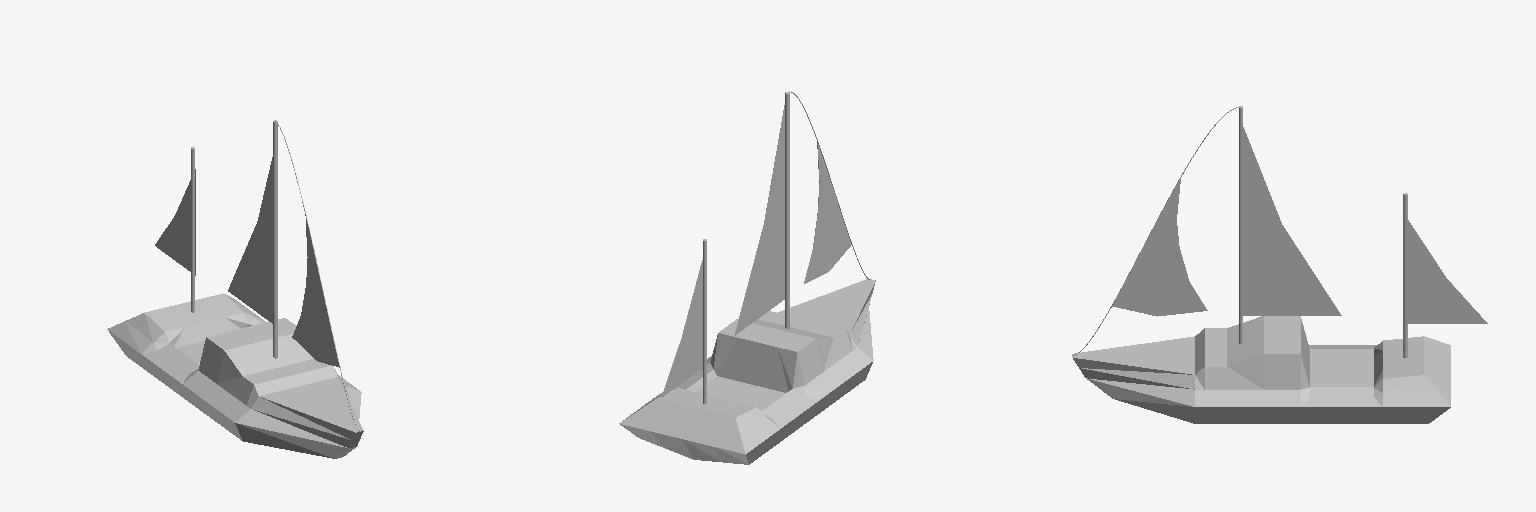
The model's file is boat.obj.
3 renders of one model, left to right at view 1: azimuth 30°, elevation 25°; view 2: azimuth 150°, elevation 25°; view 3: azimuth 270°, elevation 25°, orthographic.
Parts seen in each view (by area): view 1: BezierCurve; view 2: BezierCurve; view 3: BezierCurve.
Part boxes in pixels (left/top/right/bottom): BezierCurve: left=107, top=120, right=363, bottom=458; BezierCurve: left=619, top=91, right=875, bottom=464; BezierCurve: left=1072, top=106, right=1487, bottom=423.
Size of the model in its own units: 3.2 by 7.21 by 9.1.